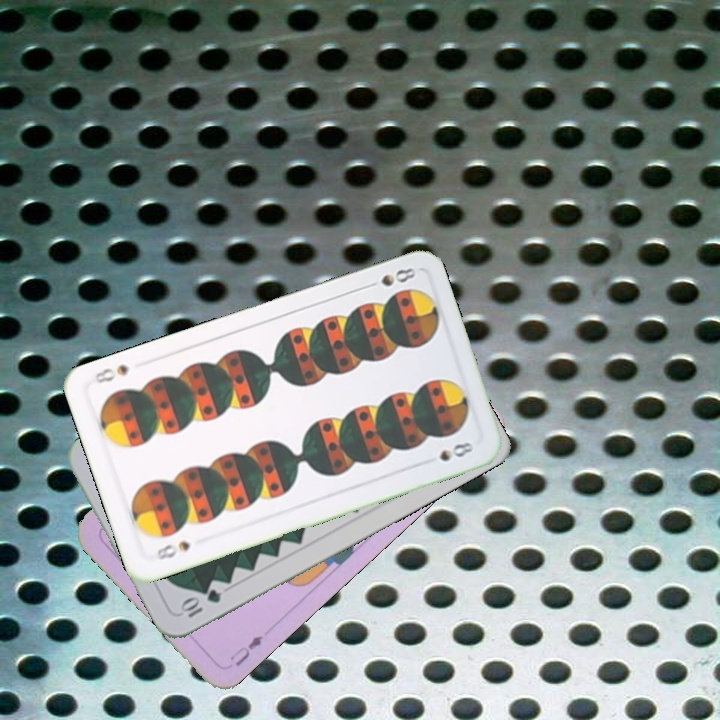EU: (225, 631, 266, 670)
G10: (176, 585, 224, 621)
S8: (361, 263, 419, 292), (151, 537, 193, 563)
